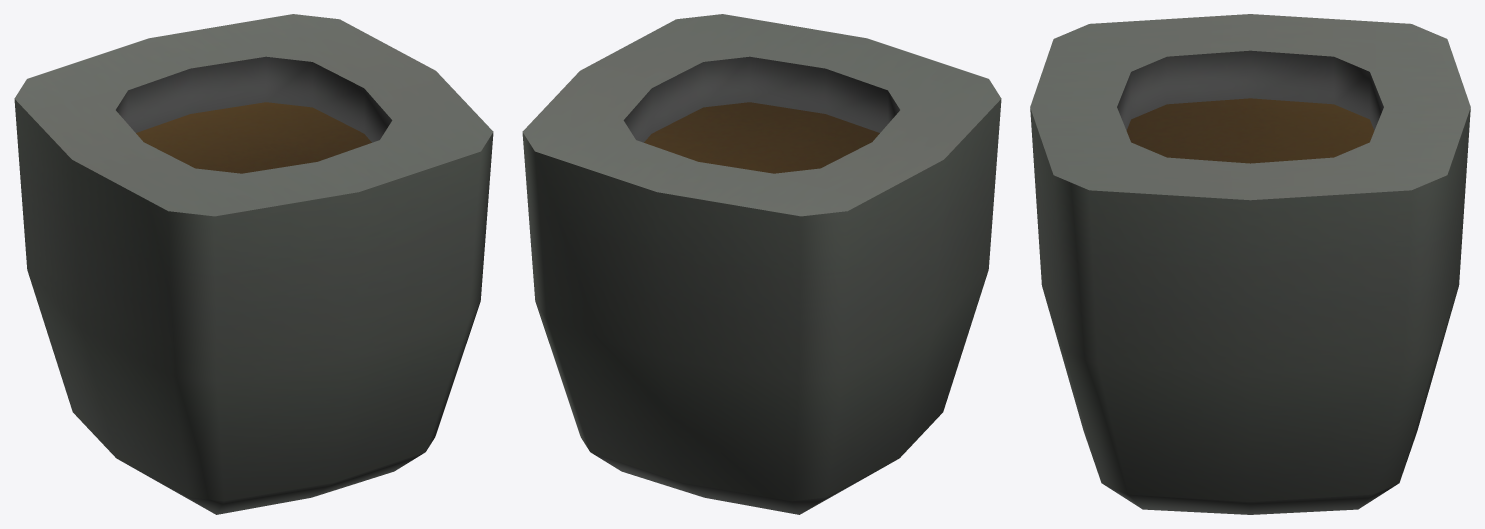
The model's file is flower_pot_grey.fbx.
3 renders of one model, left to right at view 1: azimuth 30°, elevation 25°; view 2: azimuth 150°, elevation 25°; view 3: azimuth 270°, elevation 25°, orthographic. The views are drawn at different scales.
Parts seen in each view (by area): view 1: flower_pot_grey; view 2: flower_pot_grey; view 3: flower_pot_grey.
Part boxes in pixels (box(x1,y1,x2,y2)): flower_pot_grey: box(14, 14, 493, 514); flower_pot_grey: box(522, 14, 1001, 514); flower_pot_grey: box(1030, 14, 1470, 514).
Size of the model in its own units: 42.26 by 37.77 by 42.26.
